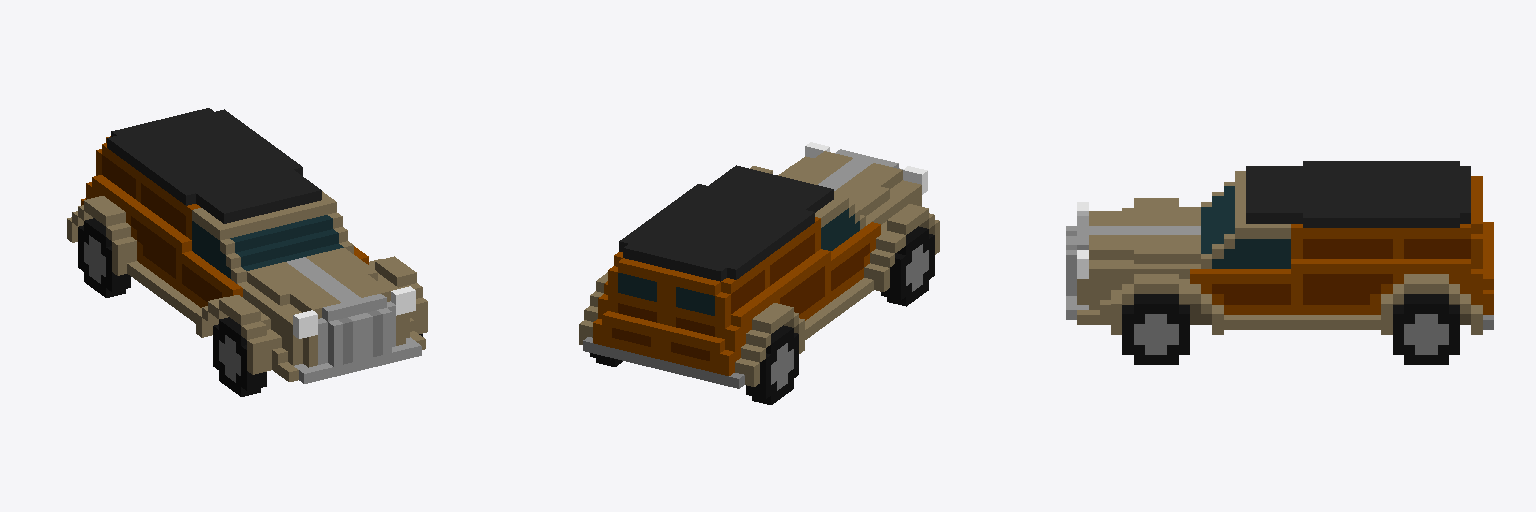
3 renders of one model, left to right at view 1: azimuth 30°, elevation 25°; view 2: azimuth 150°, elevation 25°; view 3: azimuth 270°, elevation 25°, orthographic.
Visible parts, largest first — view 1: object 1; view 2: object 1; view 3: object 1.
Boxes of the visible parts, x1=… form: object 1: x1=67, y1=108, x2=427, y2=396; object 1: x1=579, y1=142, x2=939, y2=404; object 1: x1=1066, y1=161, x2=1493, y2=364.
Bounding box in the file's own units: 1.8 × 1.3 × 3.8.
Materials: 1 (1 with a texture image).